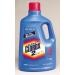grozi_14: (0, 0, 74, 74)
